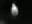person: (11, 4, 20, 18)
